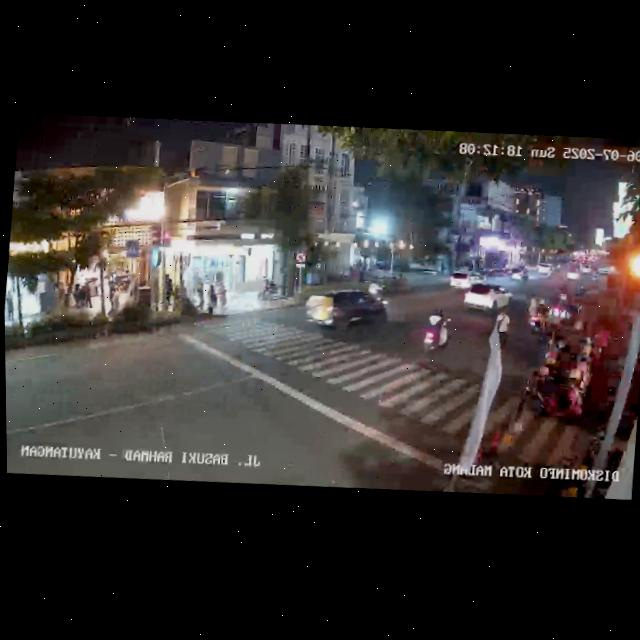car: (301, 282, 392, 338), (461, 279, 514, 320), (448, 266, 486, 294)
motorcycle: (419, 307, 453, 361), (526, 294, 548, 336)
person: (493, 307, 513, 347), (193, 278, 208, 313), (82, 277, 97, 311), (205, 281, 219, 317), (216, 281, 229, 312), (4, 290, 16, 321)
